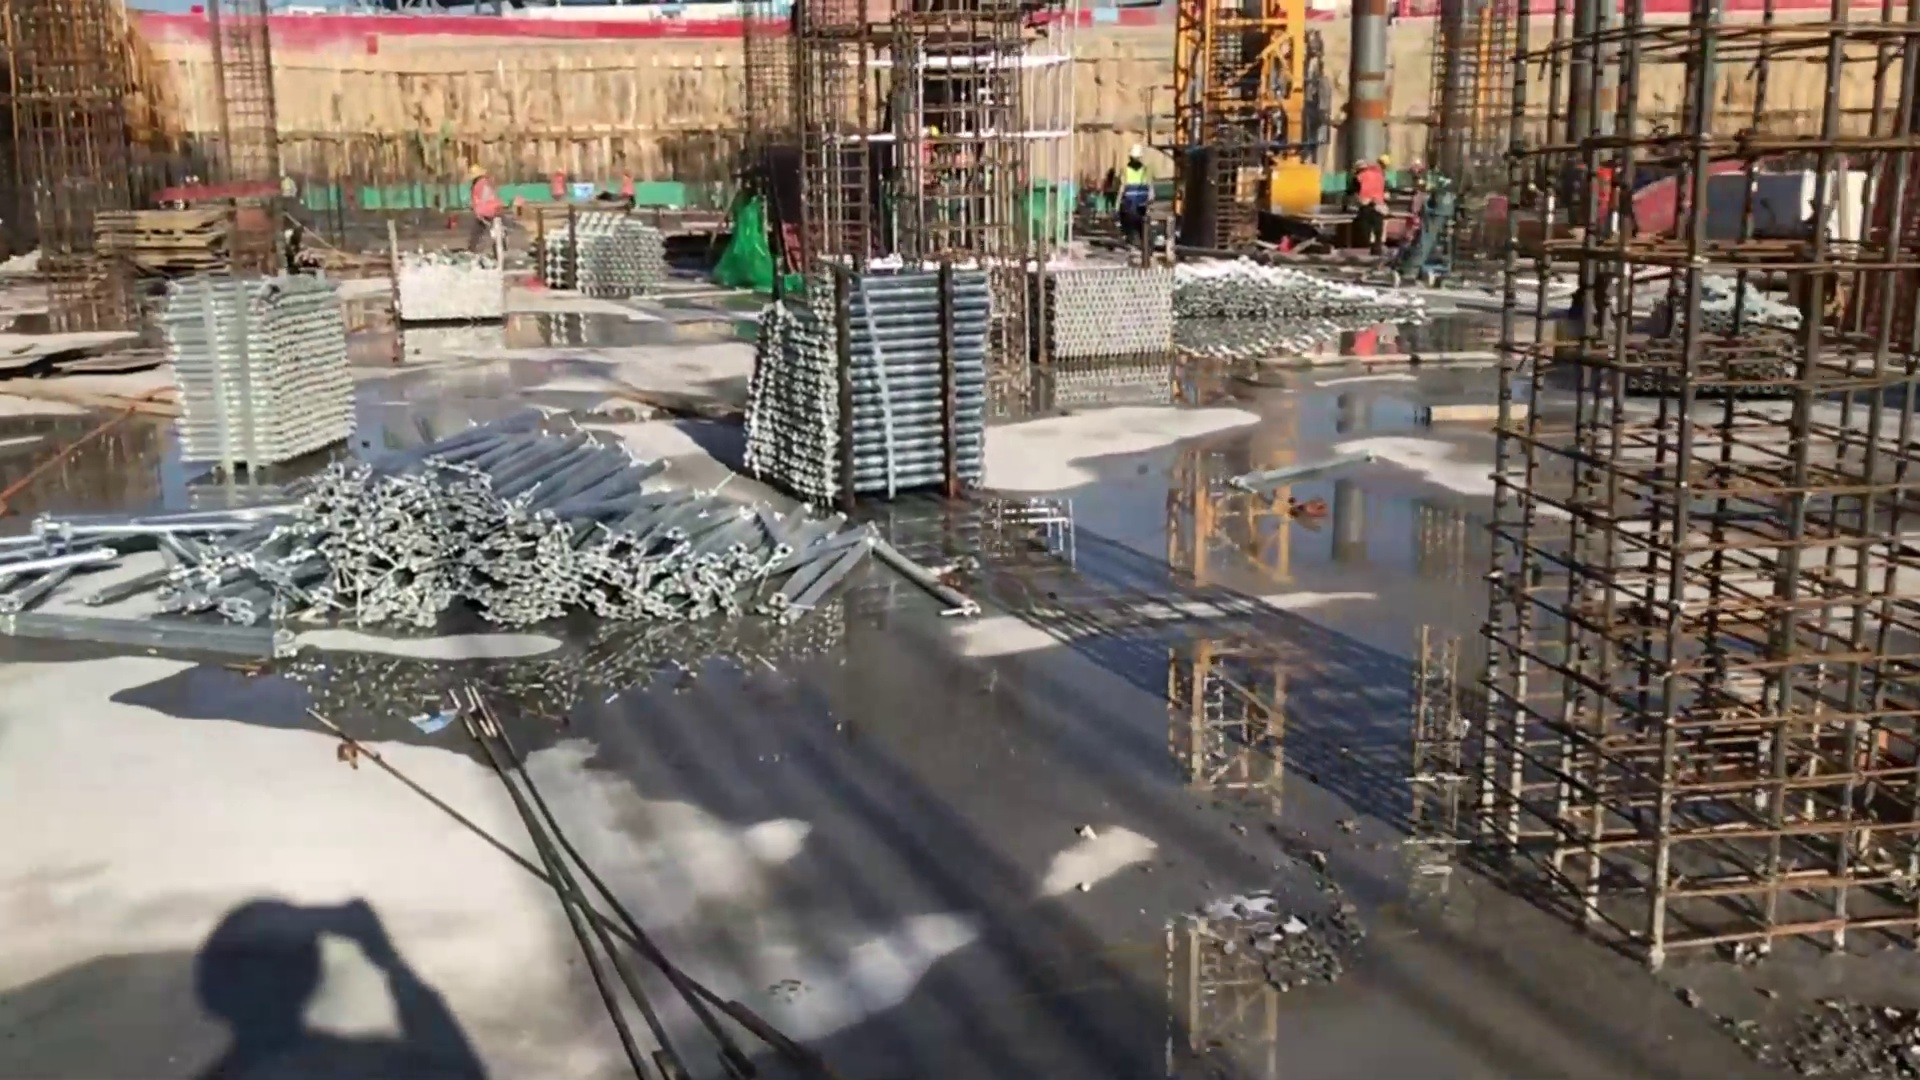board: (96, 200, 240, 280)
person: (459, 164, 508, 250), (1121, 139, 1154, 243), (1361, 149, 1396, 242)
scaffold: (101, 427, 782, 628), (742, 278, 990, 496), (171, 278, 355, 461), (1176, 253, 1392, 317), (1055, 260, 1173, 355), (577, 216, 670, 296)
vest: (1125, 170, 1148, 206)
